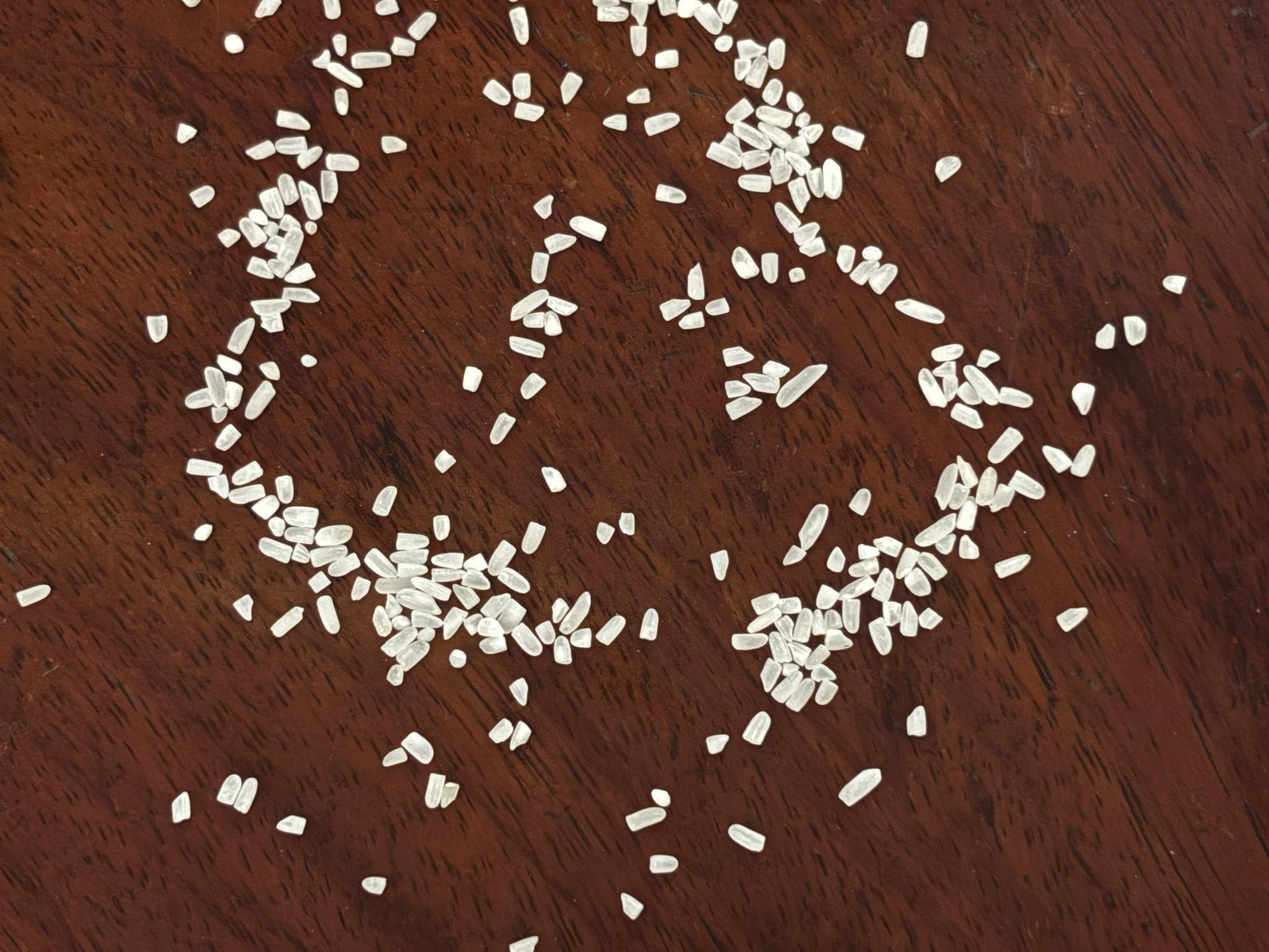Rice-th-y-nh: (775, 358, 828, 412), (836, 762, 883, 810), (895, 290, 945, 332), (794, 501, 833, 553), (914, 507, 958, 553), (961, 361, 1002, 408), (557, 590, 595, 639), (985, 423, 1025, 467), (509, 283, 550, 325), (242, 377, 278, 422), (914, 366, 950, 410), (625, 800, 667, 837), (931, 462, 962, 510), (223, 315, 258, 357), (395, 586, 442, 617), (381, 621, 418, 660), (705, 137, 743, 174), (400, 728, 436, 767), (375, 565, 416, 599), (495, 595, 528, 637), (312, 593, 344, 636), (994, 548, 1032, 584), (643, 106, 681, 142), (200, 364, 231, 408), (1007, 468, 1047, 502), (731, 119, 772, 152), (485, 538, 518, 579), (817, 157, 848, 200), (350, 44, 393, 75), (837, 571, 875, 606), (505, 2, 535, 46), (294, 180, 326, 221), (275, 227, 307, 268), (971, 465, 1002, 507), (362, 546, 400, 580), (728, 244, 762, 282), (725, 390, 763, 424), (508, 329, 546, 363), (740, 708, 773, 747), (314, 519, 353, 552), (865, 616, 896, 657), (769, 669, 804, 705), (410, 573, 452, 603), (509, 622, 544, 658), (249, 291, 291, 321), (755, 100, 794, 132), (902, 20, 933, 60), (727, 822, 766, 853), (309, 540, 348, 571), (765, 147, 795, 187), (270, 605, 305, 639), (1055, 602, 1089, 637), (901, 566, 935, 601), (831, 120, 865, 155), (747, 603, 782, 637), (998, 381, 1034, 414), (756, 119, 793, 151), (282, 501, 320, 532), (325, 60, 364, 90), (869, 566, 899, 605), (231, 776, 261, 815), (784, 175, 814, 214), (568, 213, 607, 243), (397, 639, 431, 673), (723, 94, 756, 129), (214, 771, 245, 808), (1068, 442, 1099, 479), (731, 626, 769, 656), (916, 551, 950, 584), (692, 3, 724, 38), (786, 677, 816, 714), (1069, 379, 1099, 416), (420, 771, 449, 809), (895, 601, 924, 639), (837, 596, 865, 635), (742, 369, 781, 397), (1040, 443, 1074, 475), (658, 293, 692, 325), (1120, 312, 1150, 348), (683, 262, 710, 302), (257, 185, 287, 221), (766, 630, 795, 667), (282, 281, 320, 309), (594, 613, 626, 646), (868, 263, 899, 297), (543, 228, 577, 259), (772, 200, 802, 235), (738, 169, 773, 199), (440, 605, 469, 641), (496, 566, 532, 595), (257, 536, 293, 565), (273, 171, 302, 207), (519, 520, 548, 556), (556, 70, 585, 106), (324, 149, 360, 178), (184, 455, 224, 481), (756, 656, 784, 693), (743, 54, 771, 91), (228, 481, 266, 508), (480, 590, 512, 622), (987, 482, 1017, 516), (893, 546, 922, 581), (949, 401, 984, 430), (790, 607, 818, 643), (953, 454, 981, 490), (274, 107, 311, 134), (238, 216, 268, 249), (654, 179, 687, 209), (930, 338, 964, 367), (394, 527, 430, 554), (750, 587, 781, 618), (407, 10, 437, 42), (450, 581, 482, 611), (872, 531, 904, 561), (722, 341, 754, 371), (648, 849, 680, 879), (518, 370, 547, 403), (275, 810, 308, 839), (275, 131, 309, 159), (636, 607, 663, 642), (316, 168, 342, 204), (933, 152, 962, 184), (618, 889, 646, 922), (231, 460, 264, 488), (244, 136, 277, 164), (513, 98, 546, 126), (954, 499, 981, 533), (507, 719, 534, 753), (283, 260, 317, 287), (489, 412, 516, 446), (903, 704, 930, 738), (371, 484, 398, 518), (327, 551, 361, 578), (431, 546, 465, 573), (168, 791, 195, 825), (283, 521, 317, 548), (430, 562, 465, 588), (595, 1, 630, 27), (955, 379, 985, 409), (823, 626, 854, 655), (184, 384, 215, 413), (391, 545, 430, 568), (849, 258, 881, 286), (739, 145, 771, 173), (143, 312, 171, 344), (848, 555, 881, 582), (847, 486, 874, 519), (15, 583, 52, 607), (527, 250, 553, 284), (803, 165, 828, 200), (804, 641, 832, 672), (481, 78, 512, 106), (757, 251, 783, 284), (626, 24, 652, 57), (550, 633, 576, 666), (368, 605, 394, 638), (272, 473, 298, 506), (764, 37, 789, 71), (707, 548, 732, 582), (409, 607, 444, 631), (814, 582, 841, 613), (735, 35, 766, 62), (478, 632, 509, 659), (250, 494, 281, 521), (833, 242, 859, 274), (546, 293, 578, 319), (231, 591, 257, 623), (947, 480, 972, 513), (784, 149, 812, 178), (214, 423, 243, 451), (792, 220, 821, 248), (813, 677, 840, 707), (786, 637, 813, 667), (459, 363, 485, 394), (507, 676, 533, 707), (719, 130, 745, 161), (773, 613, 797, 646), (678, 307, 706, 335), (780, 542, 808, 570), (917, 604, 944, 633), (760, 77, 786, 107), (1092, 321, 1118, 351), (460, 567, 491, 592), (540, 465, 567, 493), (723, 376, 751, 403), (487, 717, 515, 744), (797, 120, 825, 147), (774, 591, 803, 617), (879, 598, 904, 628), (509, 71, 534, 101), (222, 379, 246, 410), (653, 45, 680, 72), (390, 33, 417, 60), (360, 872, 388, 898), (380, 132, 408, 158), (437, 781, 462, 810), (534, 618, 559, 647), (713, 0, 742, 25), (348, 574, 373, 603), (476, 615, 506, 639), (938, 371, 961, 402), (296, 144, 323, 170), (704, 294, 731, 320), (382, 744, 409, 770), (1161, 271, 1188, 297), (548, 596, 573, 624), (784, 134, 812, 159), (188, 184, 216, 209), (429, 513, 453, 542), (957, 533, 981, 562), (246, 256, 275, 280), (824, 545, 848, 574), (761, 358, 791, 381), (798, 236, 828, 259), (674, 0, 705, 22), (933, 531, 959, 557), (627, 0, 653, 26), (704, 730, 730, 756), (569, 625, 594, 652), (207, 473, 232, 500), (215, 353, 243, 377), (396, 560, 428, 581), (507, 932, 540, 952), (975, 346, 1001, 371), (216, 225, 241, 251), (433, 448, 457, 475), (602, 110, 629, 134), (541, 310, 564, 338), (463, 550, 488, 575), (730, 55, 753, 82), (533, 193, 555, 221), (331, 87, 352, 116), (809, 662, 838, 683), (594, 520, 617, 546), (266, 257, 292, 280), (317, 0, 345, 21), (308, 570, 332, 594), (277, 211, 301, 235), (260, 312, 285, 335), (616, 511, 638, 537), (522, 309, 548, 331), (384, 662, 406, 688), (382, 593, 403, 620), (809, 609, 829, 637), (266, 514, 289, 538), (289, 542, 312, 566), (254, 0, 283, 19), (784, 90, 806, 115), (463, 611, 484, 637), (650, 786, 673, 809), (823, 607, 845, 631), (860, 242, 884, 264), (258, 360, 282, 382), (713, 32, 735, 56), (626, 85, 651, 106), (264, 233, 287, 255), (175, 122, 198, 144), (223, 33, 246, 55), (856, 541, 880, 562), (447, 647, 468, 671), (330, 32, 349, 57), (653, 0, 682, 16), (247, 207, 270, 227), (374, 0, 401, 17), (209, 404, 230, 425), (312, 49, 333, 70), (779, 660, 802, 679), (193, 522, 214, 542), (391, 613, 411, 632), (793, 111, 812, 130), (417, 626, 437, 644), (788, 265, 806, 284), (263, 221, 280, 238), (300, 353, 318, 369), (624, 0, 659, 8), (591, 0, 621, 9), (177, 0, 206, 8), (304, 221, 318, 236)
